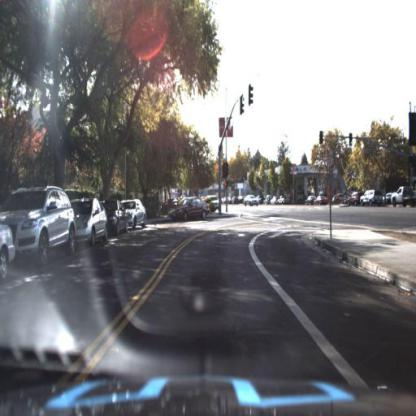car: (13, 181, 76, 272), (71, 192, 107, 250), (165, 191, 214, 227), (0, 218, 15, 281), (124, 196, 149, 232), (106, 198, 126, 240), (358, 184, 385, 208), (344, 191, 364, 209), (204, 192, 221, 211), (240, 193, 260, 209), (381, 191, 396, 204)
